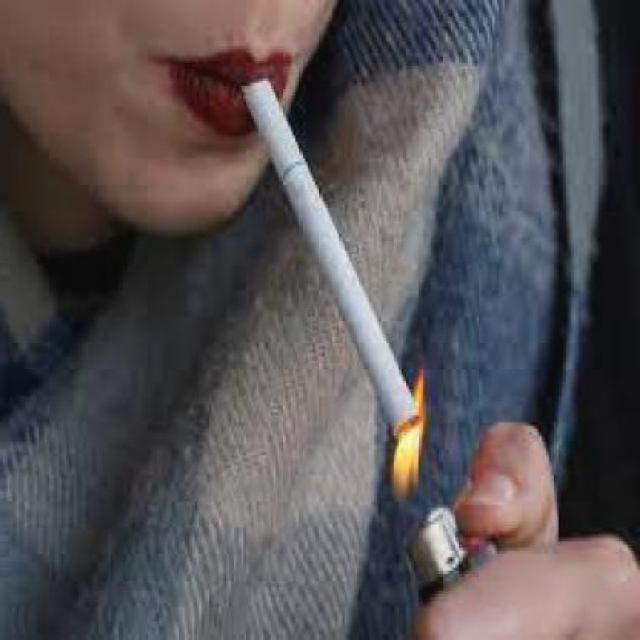cigarette: (246, 74, 423, 443)
